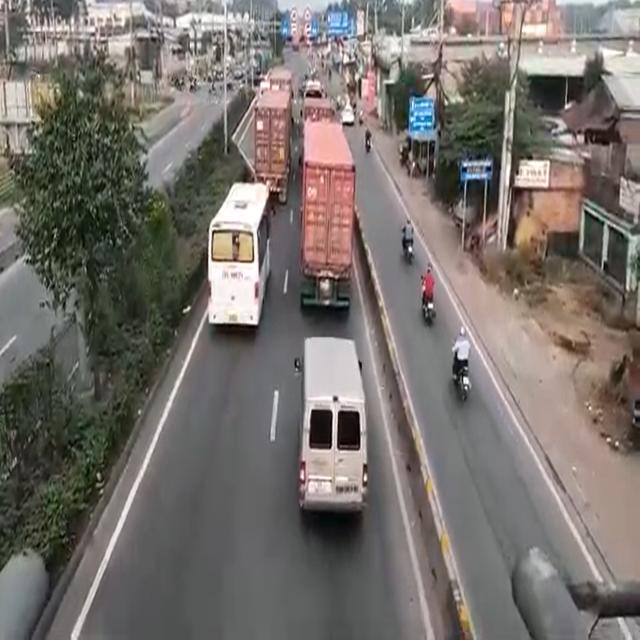bus: (208, 180, 264, 326)
car: (297, 334, 369, 512)
motorbike: (451, 340, 472, 402), (423, 271, 437, 322), (402, 224, 414, 269)
truck: (300, 118, 350, 312), (256, 86, 287, 202)
